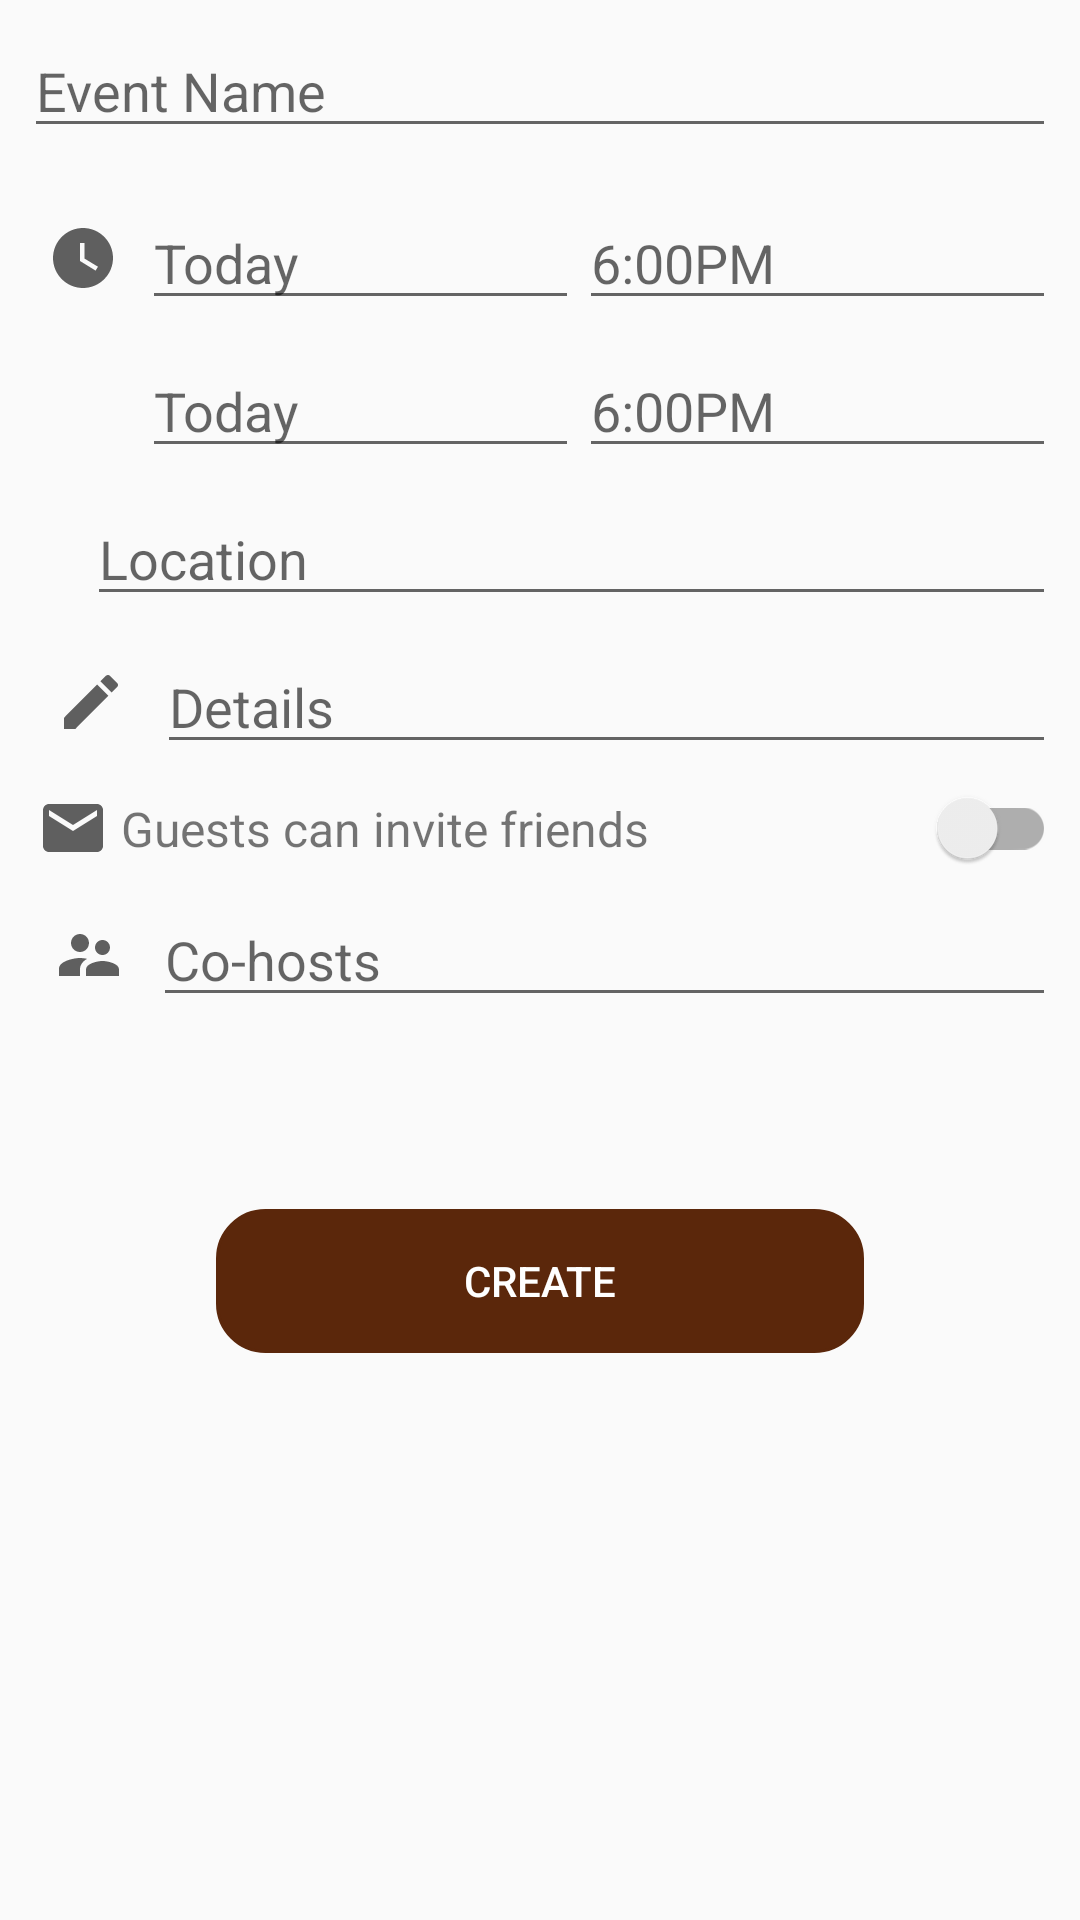

Icons on this 1080*1920 Android screen, each with the point to tap as (x,y):
edit: (91,702)
email: (73,828)
supervisor: (89,955)
watch: (83,258)
